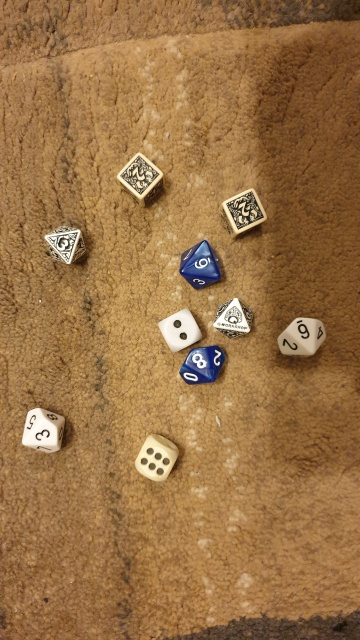d10-3: (13, 402, 70, 460)
d10-6: (267, 310, 330, 367), (165, 236, 228, 292)
d10-8: (173, 345, 230, 389)
d6-2: (155, 306, 204, 355)
d6-6: (128, 427, 184, 490)
d6p-2: (115, 147, 165, 203), (218, 184, 268, 237)
d8p-3: (41, 221, 95, 272)
d8p-8: (210, 295, 257, 346)
